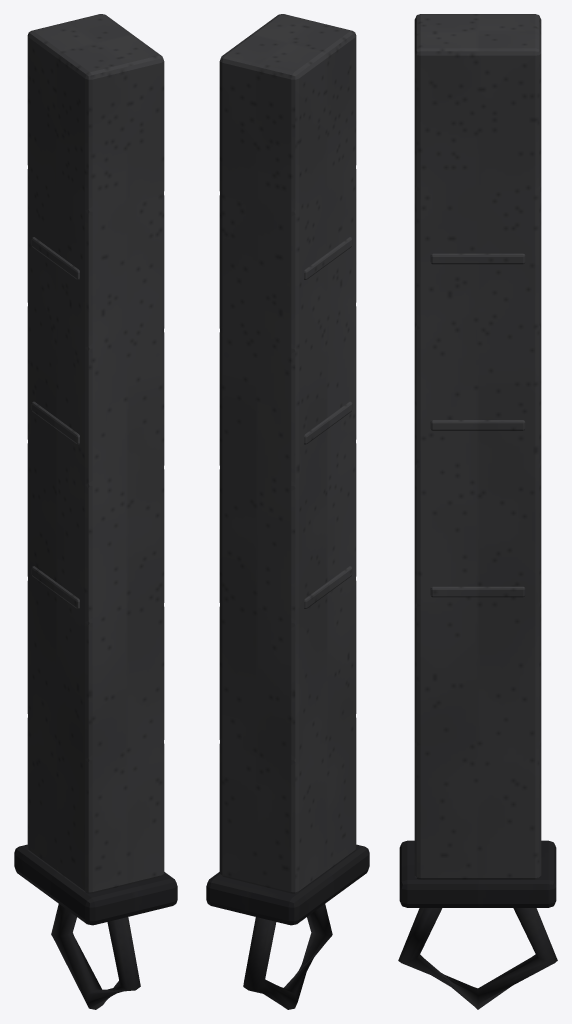
The model's file is mag_extquick_light.glb.
3 renders of one model, left to right at view 1: azimuth 30°, elevation 25°; view 2: azimuth 150°, elevation 25°; view 3: azimuth 270°, elevation 25°, orthographic.
Parts seen in each view (by area): view 1: mag, mag_base, tab, mag_rib1, mag_rib0, mag_rib2; view 2: mag, mag_base, tab, mag_rib1, mag_rib0, mag_rib2; view 3: mag, mag_base, tab, mag_rib0, mag_rib2, mag_rib1.
Boxes of the visible parts, x1,y1,x2,y2 form: mag: (27,14,164,893); mag_base: (14,844,177,925); tab: (51,904,140,1009); mag_rib1: (31,401,79,444); mag_rib0: (31,237,79,279); mag_rib2: (31,566,79,608); mag: (219,14,356,893); mag_base: (206,844,369,925); tab: (243,904,332,1009); mag_rib1: (304,401,352,444); mag_rib0: (304,237,352,279); mag_rib2: (304,566,352,608); mag: (414,14,541,879); mag_base: (399,840,556,907); tab: (398,908,557,1009); mag_rib0: (430,253,525,264); mag_rib2: (430,586,525,597); mag_rib1: (430,420,525,430).
Bounding box in the file's own units: 0.028 × 0.282 × 0.0417.
Materials: 3 (3 with a texture image).
